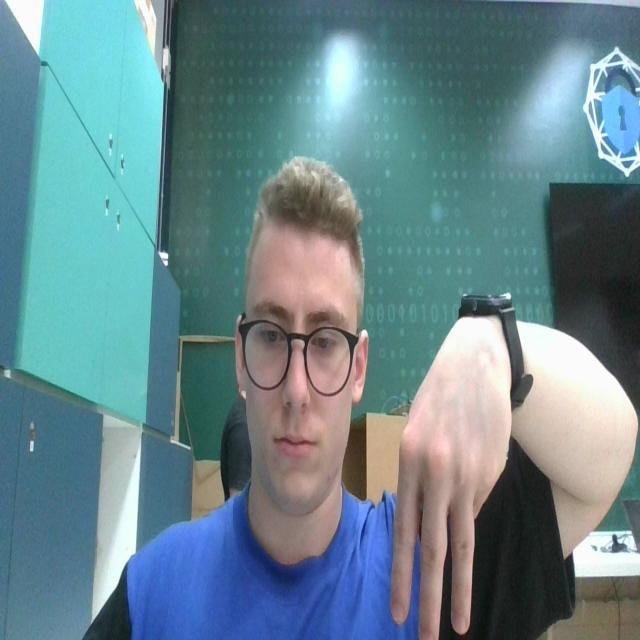M: (391, 306, 513, 640)
